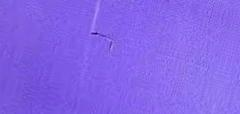snag: (86, 28, 122, 56)
